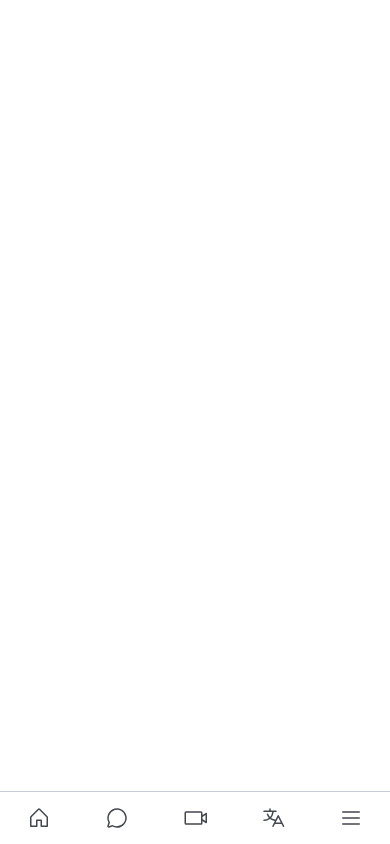
Test: MobileNav › reveals the full nav (incl. later domains) via the More sheet
Click the button named "More". click: (351, 818)
box: [312,792,389,843]
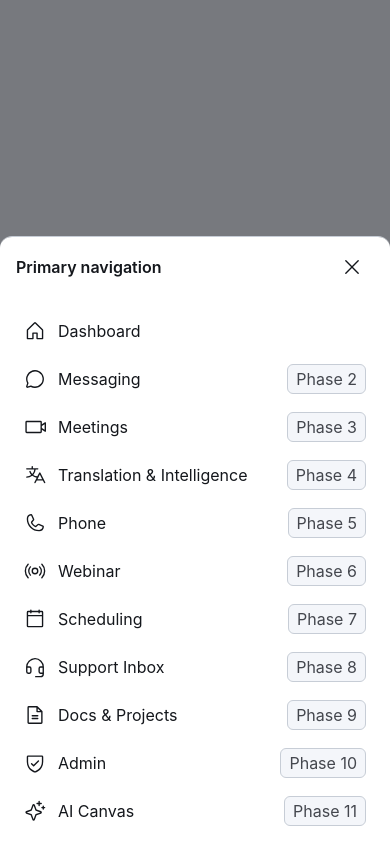
Check: the link "Admin Phase 10" is shown, box [12,741,378,785]
